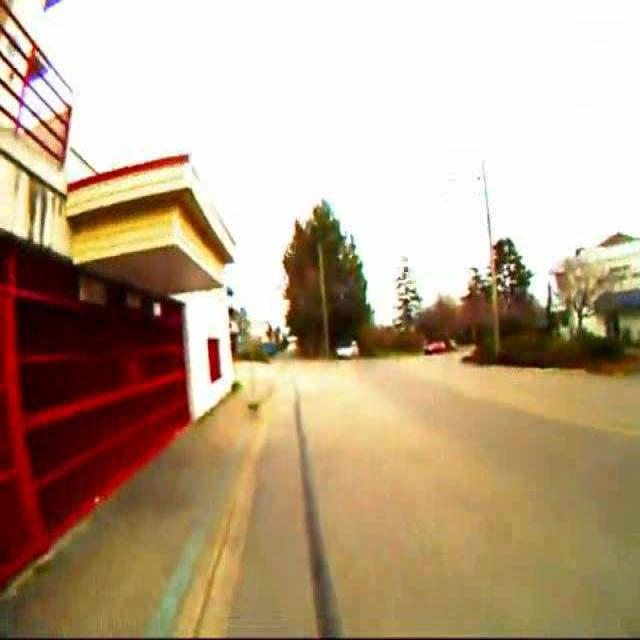other: (202, 195, 298, 378), (64, 204, 230, 302)
